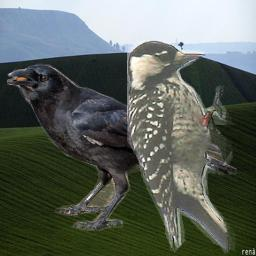Crow: (7, 63, 237, 231)
Woodpecker: (127, 40, 237, 255)
